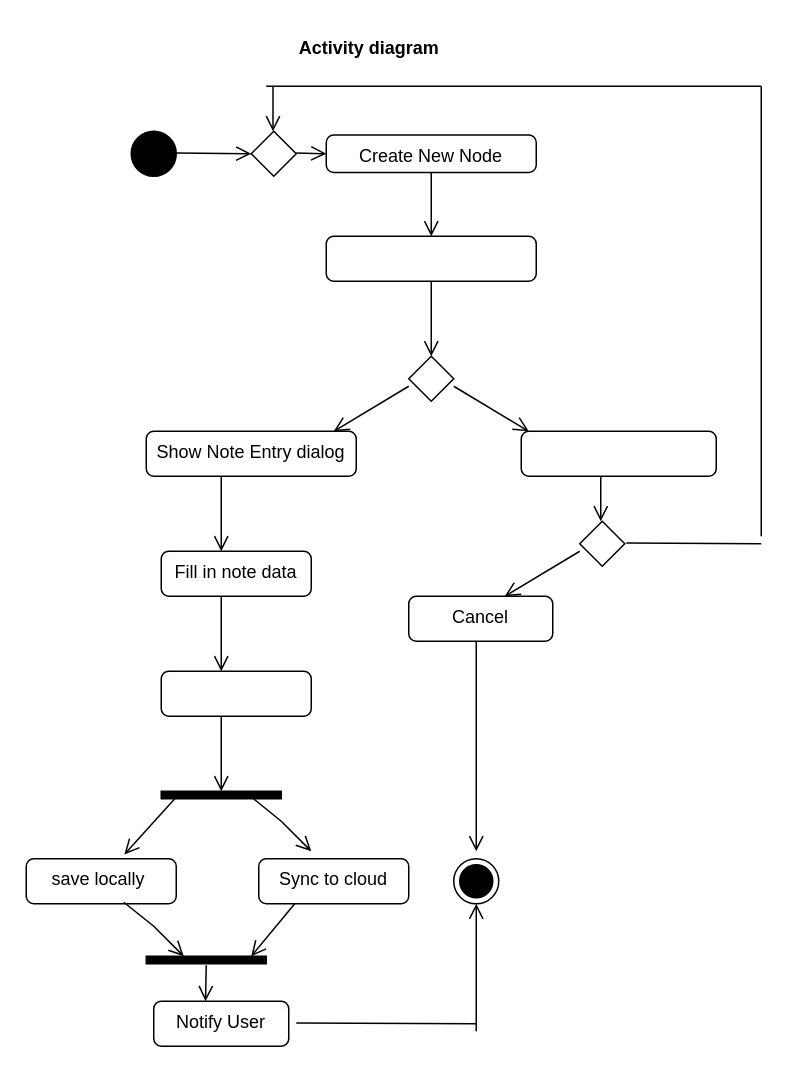
The diagram is 789 pixels wide and 1073 high, and some of its shapes have lost their labels. The shapes that lost their labels are listed below. From the top down, each one's box as (x1, y1, x2, y2) in pixels, then its label:
(325, 235, 536, 281): Enter Note: Title
(520, 430, 716, 476): Prompt new note
(160, 670, 311, 716): save Note
